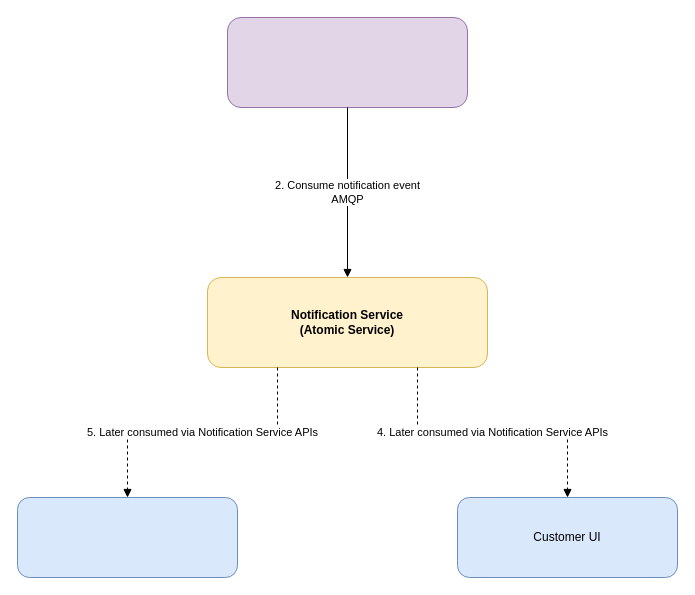
This 695x595 diagram has some shape labels left out. Here are the shapes that lost their labels. From the top down, the centre of each, then its label:
At point (347, 62): "RabbitMQ fleetshare.events".
At point (127, 537): "Ops UI".
